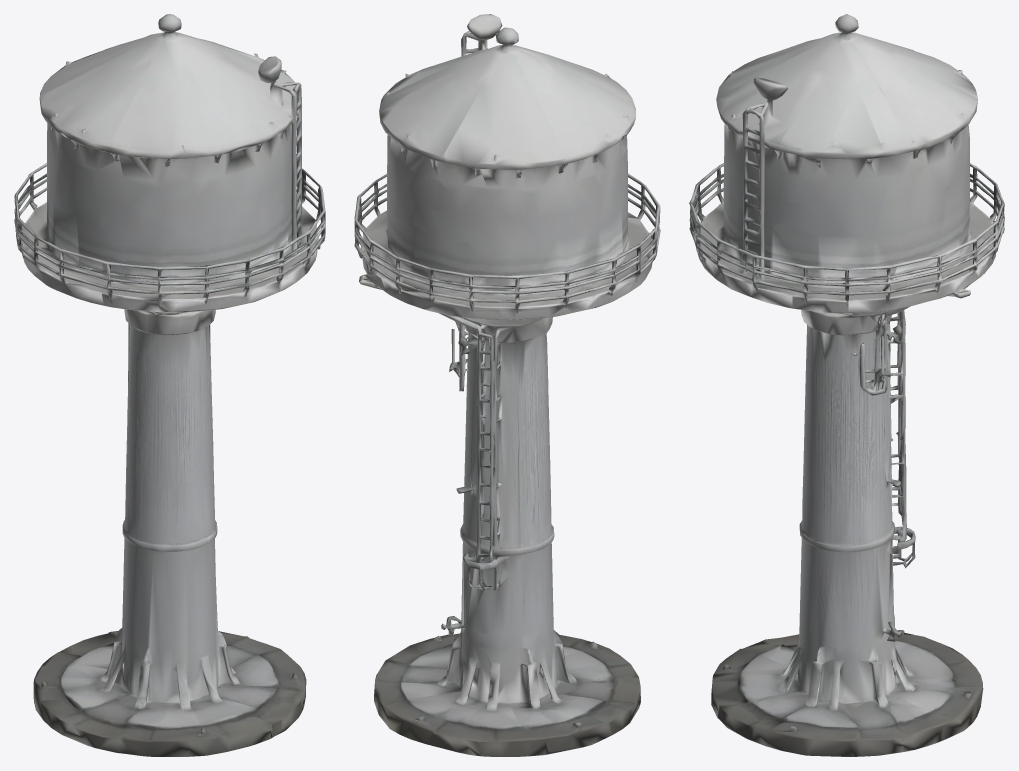
The model's file is water_tower.glb.
3 views of the same model, side by side, from view 1: azimuth 30°, elevation 25°; view 2: azimuth 150°, elevation 25°; view 3: azimuth 270°, elevation 25° (orthographic).
Visible parts, largest first — view 1: tripo_node_2040e00c-7691-4d61-919e-eafb57545176; view 2: tripo_node_2040e00c-7691-4d61-919e-eafb57545176; view 3: tripo_node_2040e00c-7691-4d61-919e-eafb57545176.
Part boxes in pixels (box(x1,y1,x2,y2)): tripo_node_2040e00c-7691-4d61-919e-eafb57545176: box(14, 14, 325, 756); tripo_node_2040e00c-7691-4d61-919e-eafb57545176: box(354, 14, 660, 756); tripo_node_2040e00c-7691-4d61-919e-eafb57545176: box(689, 14, 1004, 756).
Bounding box in the file's own units: 0.4147 × 1 × 0.4172.
1 material, 1 textured.
